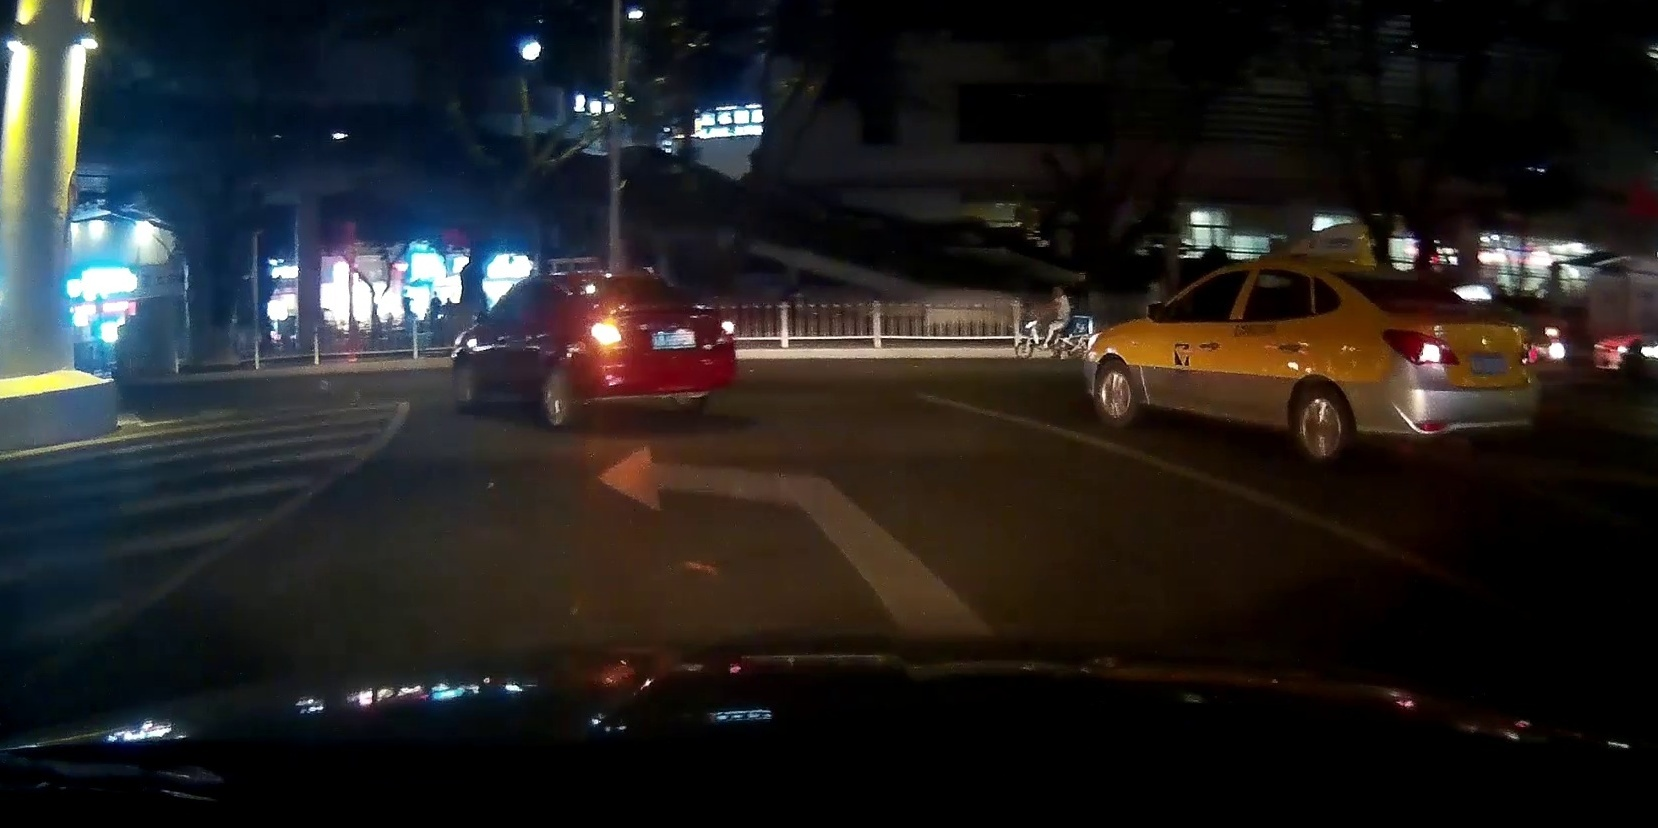L_light: (1382, 329, 1460, 366), (588, 320, 622, 344)
R_light: (1522, 338, 1535, 365), (719, 319, 733, 337)
T_light: (1390, 276, 1431, 286), (623, 276, 650, 282)
night-left: (1319, 260, 1539, 466), (572, 268, 735, 427)
